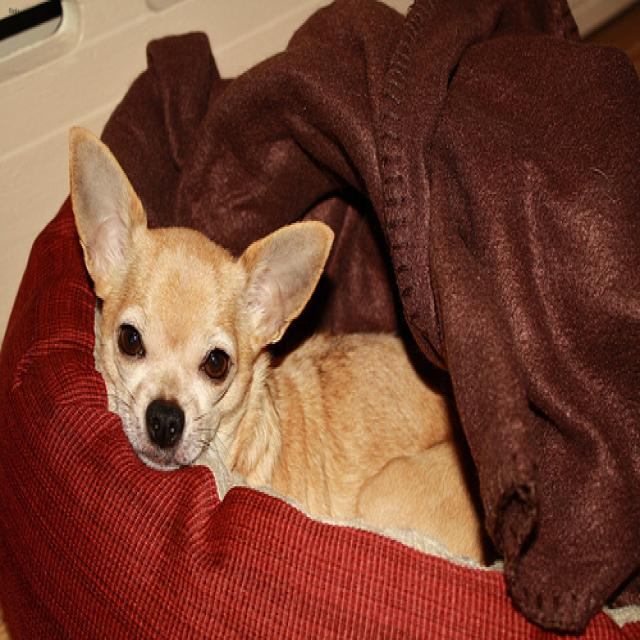dog-chihuahua: (56, 113, 509, 580)
